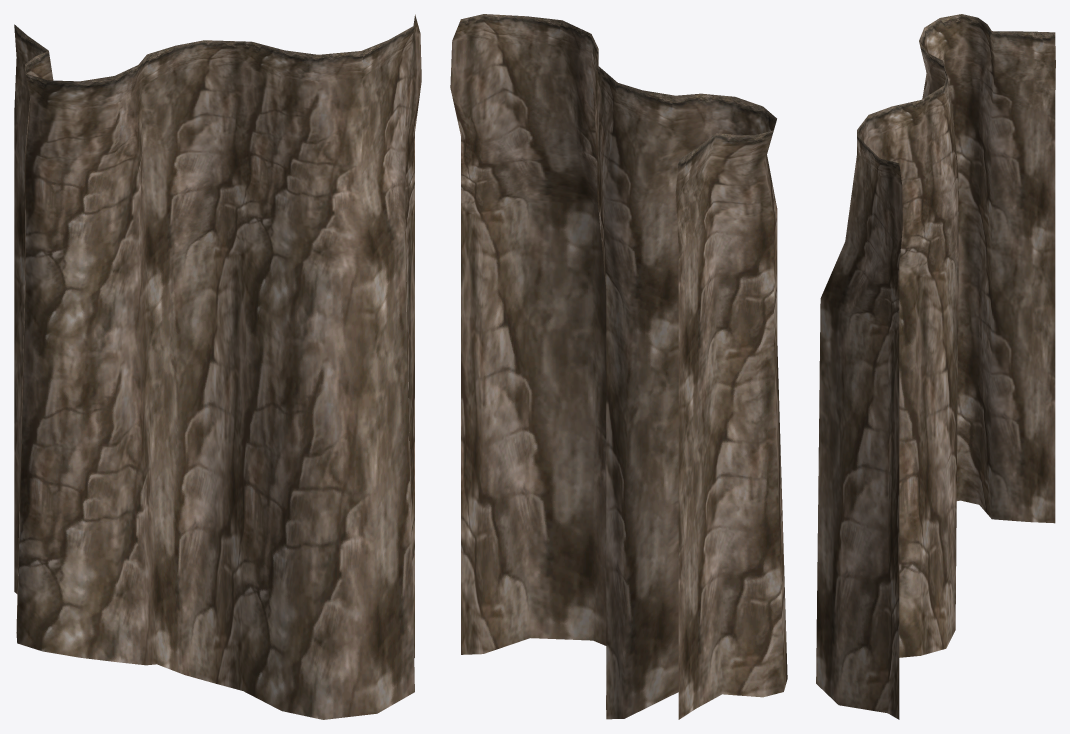
Rendered from OVERHILL_A_01_LINE68.fbx.
3 renders of one model, left to right at view 1: azimuth 30°, elevation 25°; view 2: azimuth 150°, elevation 25°; view 3: azimuth 270°, elevation 25°, orthographic. The views are drawn at different scales.
Parts seen in each view (by area): view 1: OVERHILL_A_01_LINE68; view 2: OVERHILL_A_01_LINE68; view 3: OVERHILL_A_01_LINE68.
Boxes of the visible parts, <box> form: OVERHILL_A_01_LINE68: <box>14,14,421,719</box>; OVERHILL_A_01_LINE68: <box>450,14,787,719</box>; OVERHILL_A_01_LINE68: <box>816,14,1055,719</box>.
Bounding box in the file's own units: 103121 × 172186 × 66730.
Materials: 2 (2 with a texture image).
